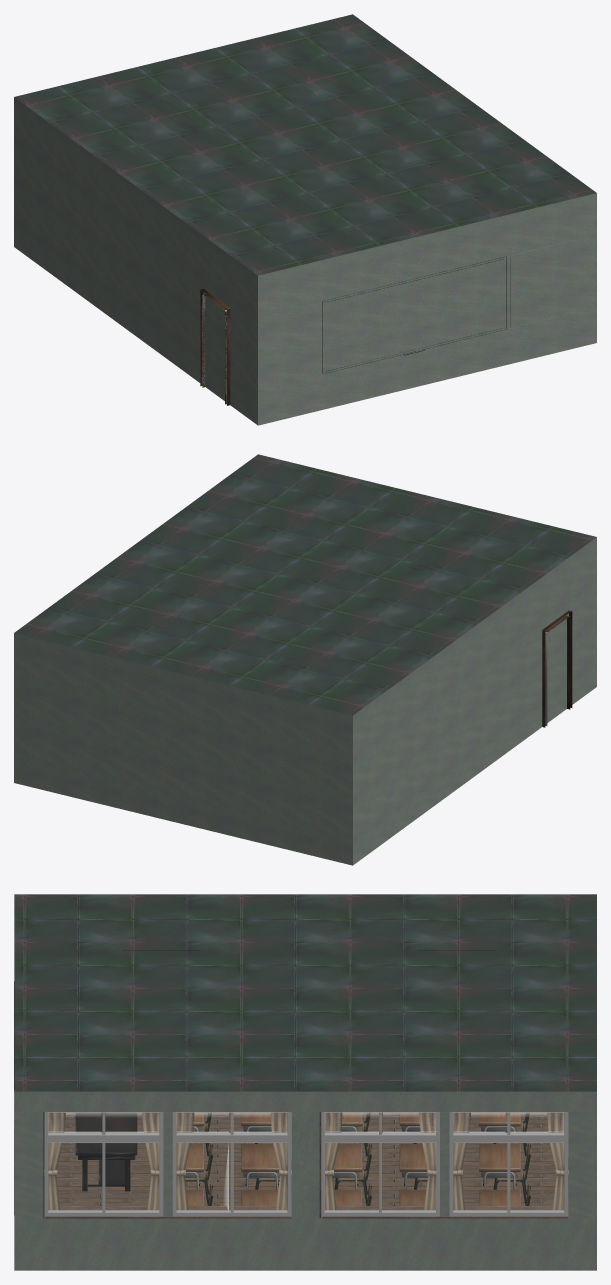
The model's file is classroom.glb.
3 renders of one model, top to bottom at view 1: azimuth 30°, elevation 25°; view 2: azimuth 150°, elevation 25°; view 3: azimuth 270°, elevation 25°, orthographic. The views are drawn at different scales.
Parts seen in each view (by area): view 1: wall, ceilling, Door.001|Door_L_door.blend|Dupli|, Collection|board_L_board.blend|Dupli|; view 2: wall, ceilling, Door.001|Door_L_door.blend|Dupli|; view 3: ceilling, wall, Window.002|Glass_L_Window.blend|Dupli|2, Window.003|Glass_L_Window.blend|Dupli|2, ground, Cube, Window.003|Window_L_Window.blend|Dupli|1, Window.002|Window_L_Window.blend|Dupli|1, wall.002, Window.002|Plane_L_Window.blend|Dupli|4, Window.003|Plane_L_Window.blend|Dupli|4, teacherDesk.001|teacherDesk_L_teacherDesk.blend|Dupli| (+6 smaller).
Boxes of the visible parts, x1,y1,x2,y2 form: wall: (14, 97, 596, 425); ceilling: (14, 14, 596, 275); Door.001|Door_L_door.blend|Dupli|: (200, 288, 230, 405); Collection|board_L_board.blend|Dupli|: (322, 239, 575, 373); wall: (14, 537, 596, 865); ceilling: (14, 454, 596, 715); Door.001|Door_L_door.blend|Dupli|: (542, 610, 572, 727); ceilling: (14, 894, 596, 1091); wall: (14, 1091, 596, 1270); Window.002|Glass_L_Window.blend|Dupli|2: (325, 1113, 563, 1209); Window.003|Glass_L_Window.blend|Dupli|2: (49, 1113, 286, 1209); ground: (56, 1112, 556, 1218); Cube: (185, 1112, 520, 1216); Window.003|Window_L_Window.blend|Dupli|1: (44, 1112, 291, 1216); Window.002|Window_L_Window.blend|Dupli|1: (321, 1112, 568, 1216); wall.002: (14, 1112, 596, 1218); Window.002|Plane_L_Window.blend|Dupli|4: (320, 1112, 568, 1212); Window.003|Plane_L_Window.blend|Dupli|4: (44, 1112, 291, 1212); teacherDesk.001|teacherDesk_L_teacherDesk.blend|Dupli|: (75, 1112, 137, 1191).
Bounding box in the file's own units: 8.11 × 3.42 × 10.04.
Materials: 23 (18 with a texture image).
